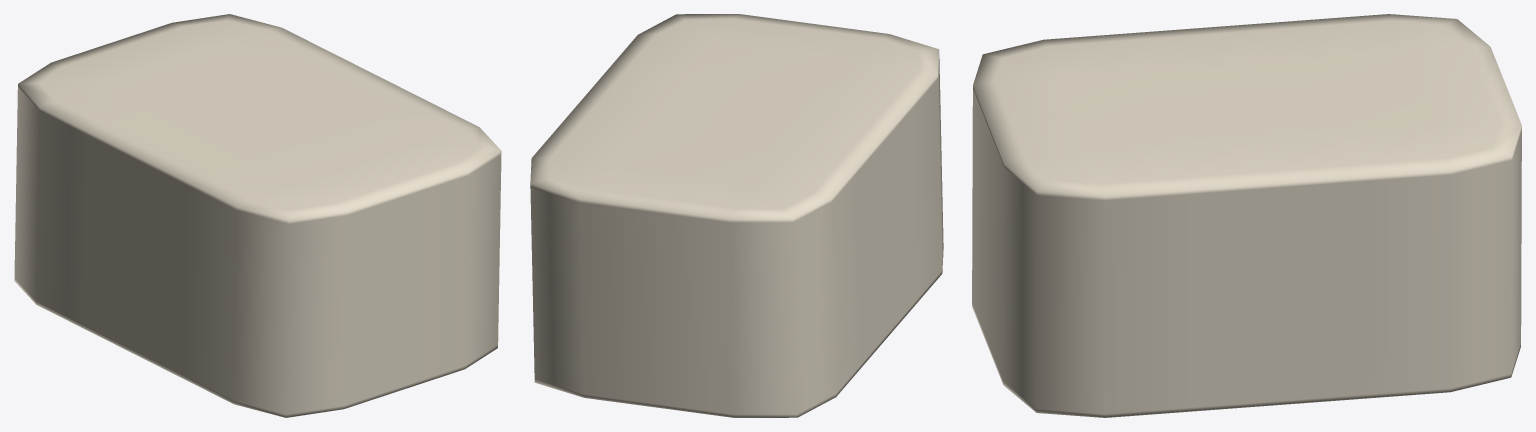
The model's file is eraser.fbx.
3 views of the same model, side by side, from view 1: azimuth 30°, elevation 25°; view 2: azimuth 150°, elevation 25°; view 3: azimuth 270°, elevation 25° (orthographic). The views are drawn at different scales.
Visible parts, largest first — view 1: eraser; view 2: eraser; view 3: eraser.
Part boxes in pixels (x1,y1,x2,y2): eraser: (14, 14, 501, 417); eraser: (530, 14, 943, 417); eraser: (972, 14, 1521, 417).
Size of the model in its own units: 23.16 by 14.3 by 30.26.
